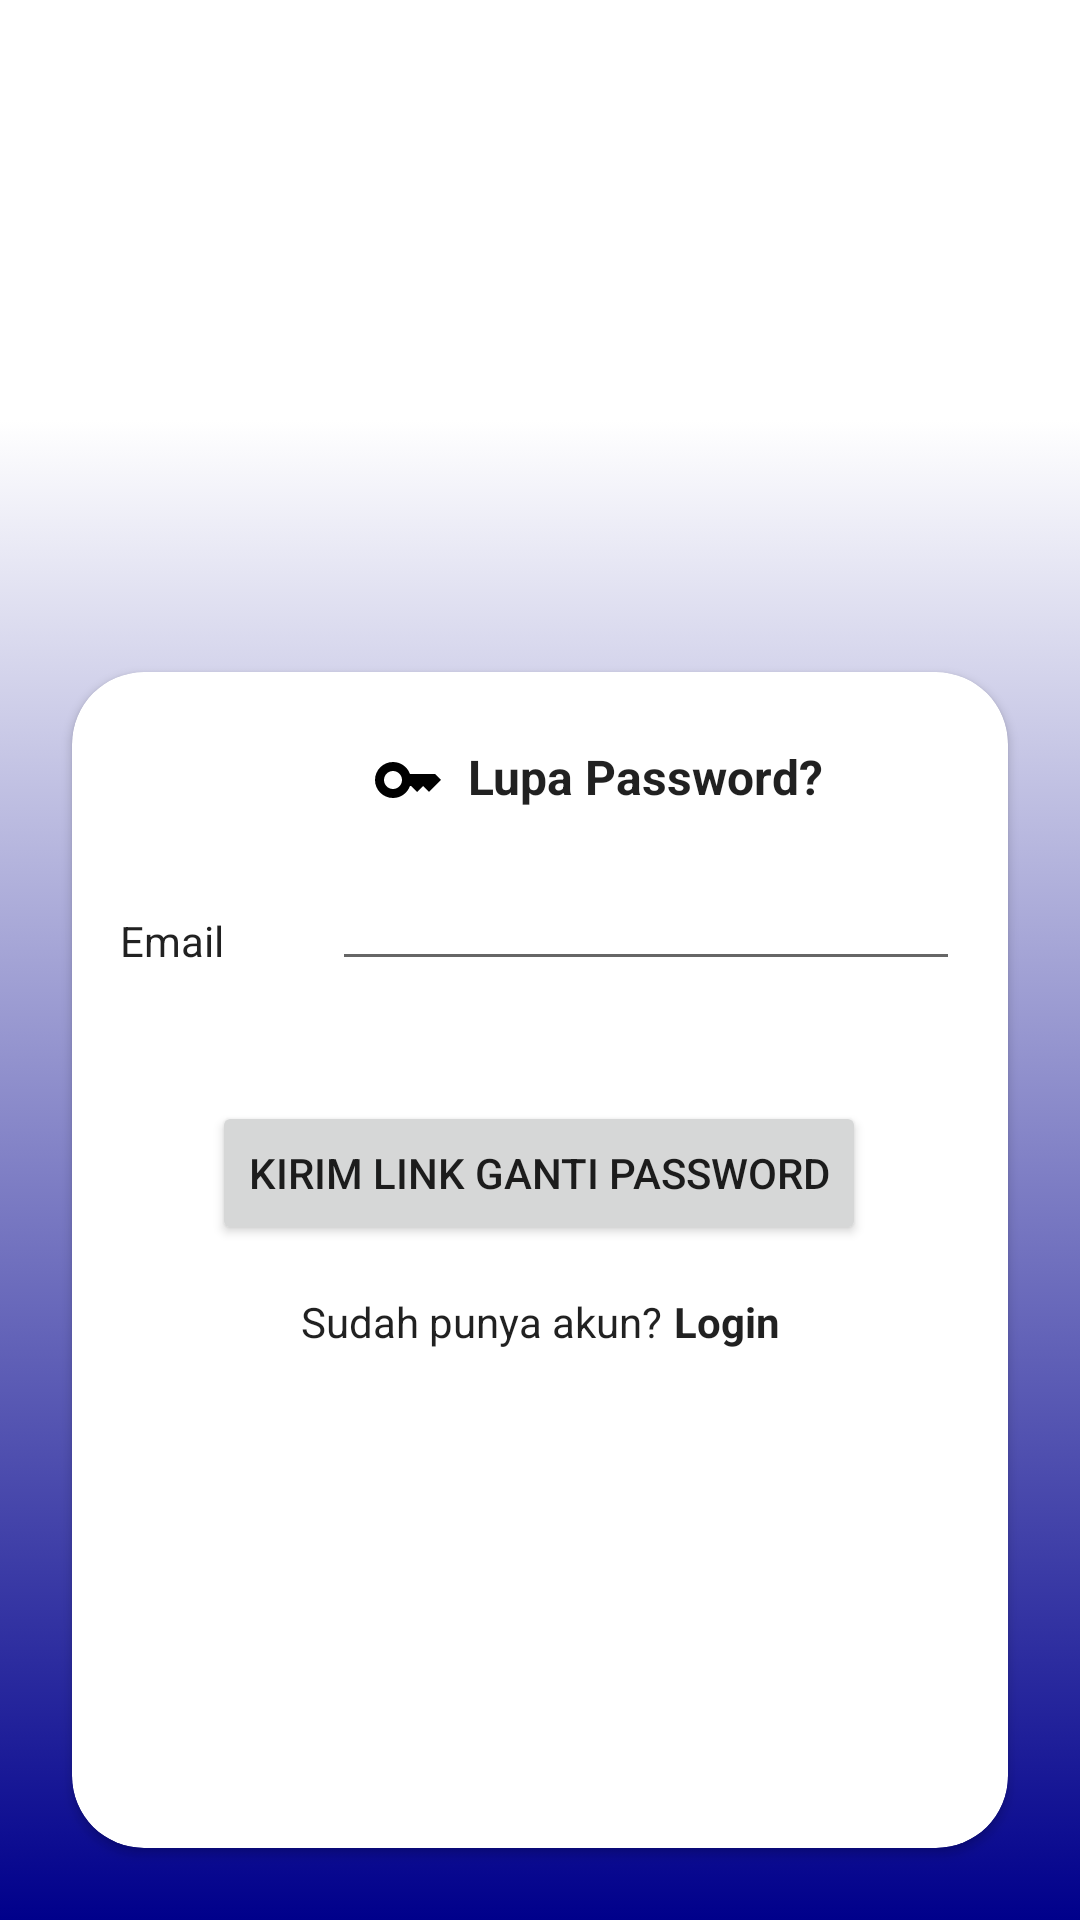

Screen size 1080px×1920px. Icon name, then its center in pixels as [x,y]:
key: [408,780]
